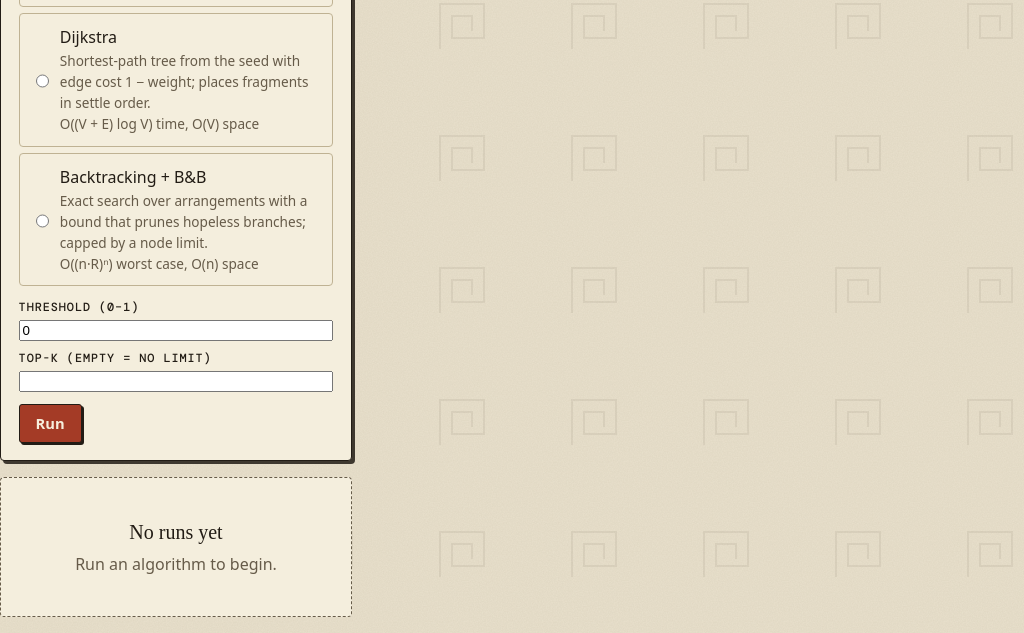
Test: ReconstructPage › validates parameters against the API bounds and disables Run
The width and height of the screenshot is (1024, 633).
(page scrolled)
Expected: the text "Run an algorithm to begin." is shown, [75,554,277,576]
Replace the text in the number field labelled "Threshold (0–1)" with "2" at (176, 330), box [19,320,333,341]
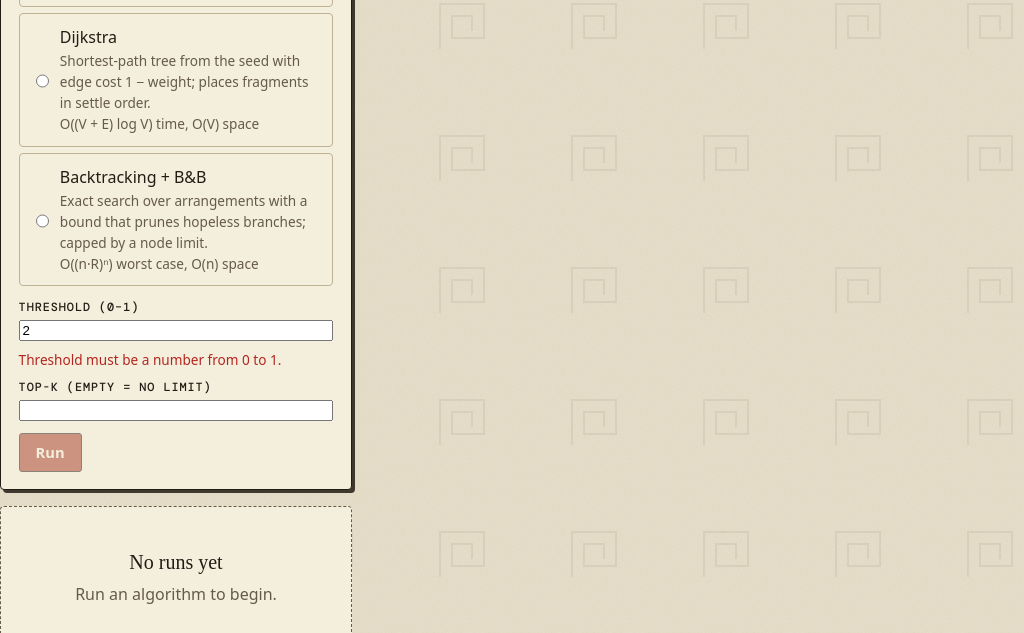
Now the text "Threshold must be a number from 0 to 1." is shown, box [19,350,282,369]
Now the button "Run" is disabled, box [19,433,82,472]
Replace the text in the number field labelled "Threshold (0–1)" with "0.3" at (176, 330), box [19,320,333,341]
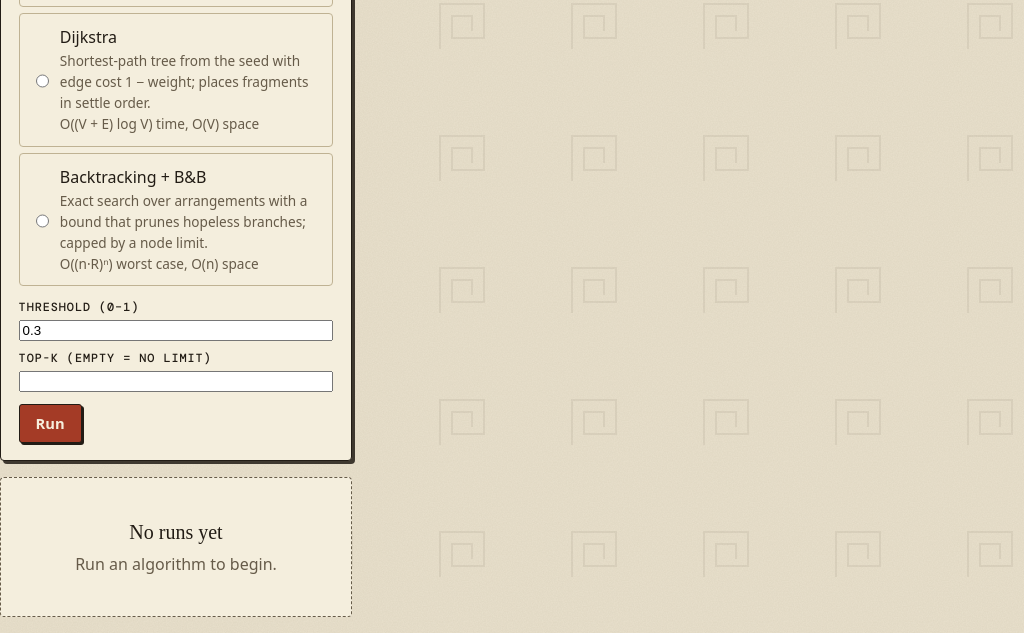
Type "99" into the number field labelled "Top-k (empty = no limit)" at (176, 381), box [19,370,333,392]
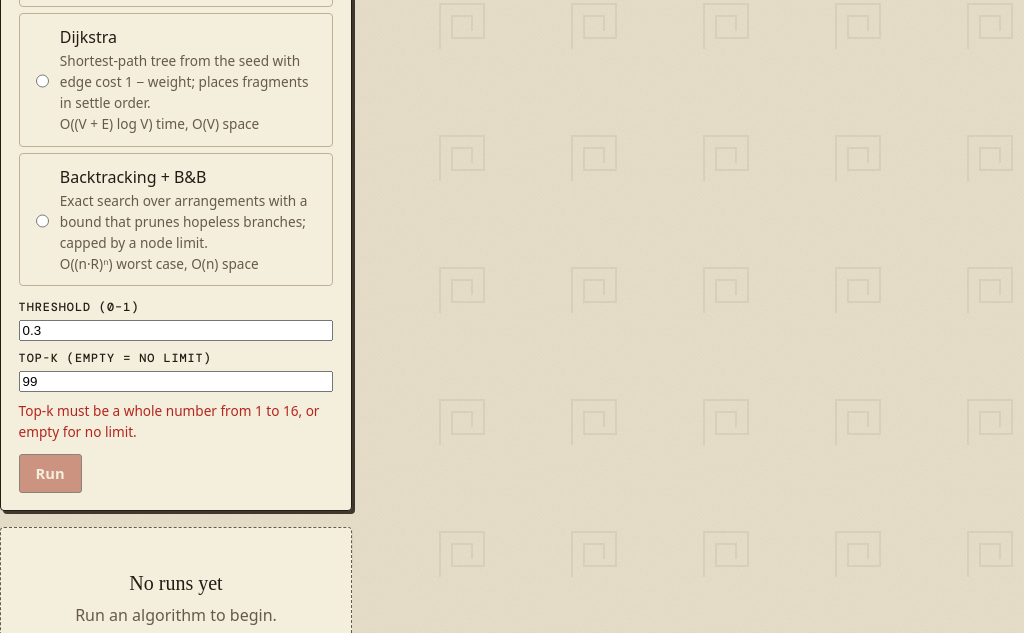
Now the text "Top-k must be a whole number" is shown, box [19,400,320,441]
Click the radio button labelled "Backtracking" at (42, 221), box [36,168,49,274]
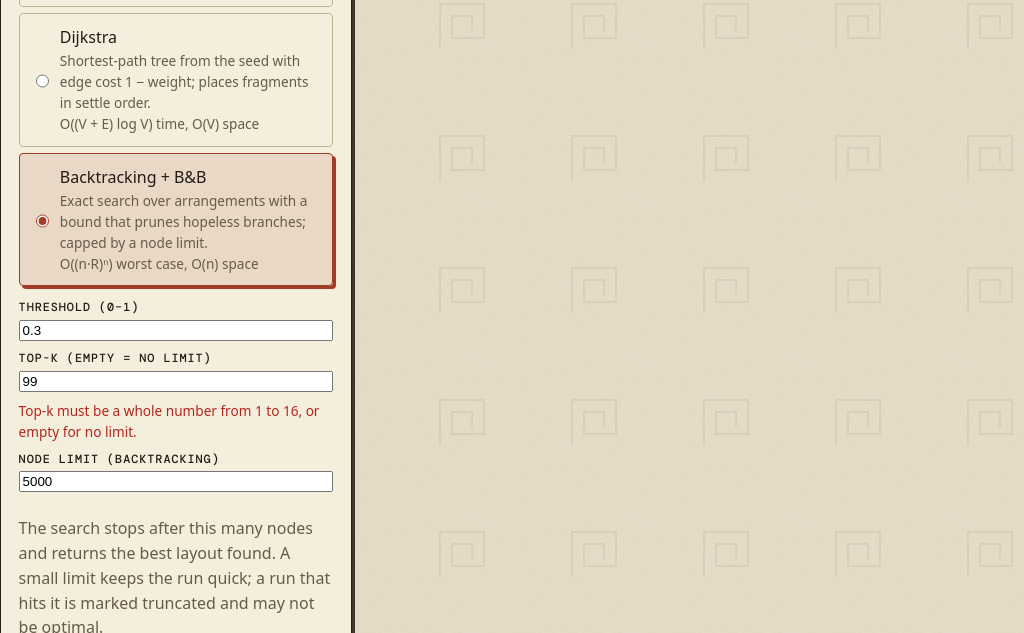
Replace the text in the number field labelled "Node limit (backtracking)" with "5" at (176, 482), box [19,471,333,492]
(page scrolled)
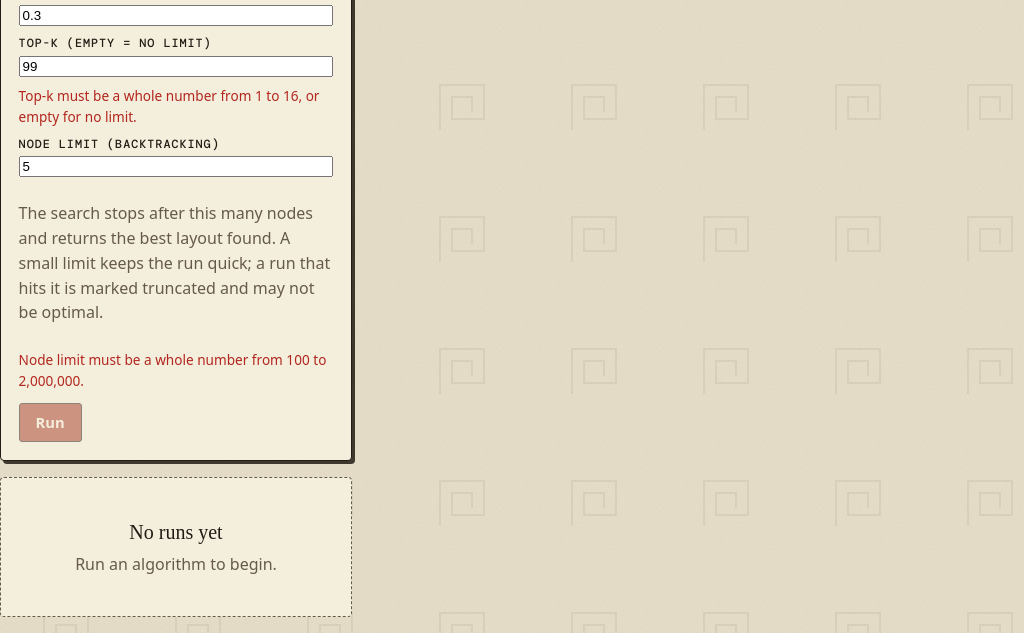
Now the text "Node limit must be a whole number from 100 to 2,000,000." is shown, box [19,349,333,391]
